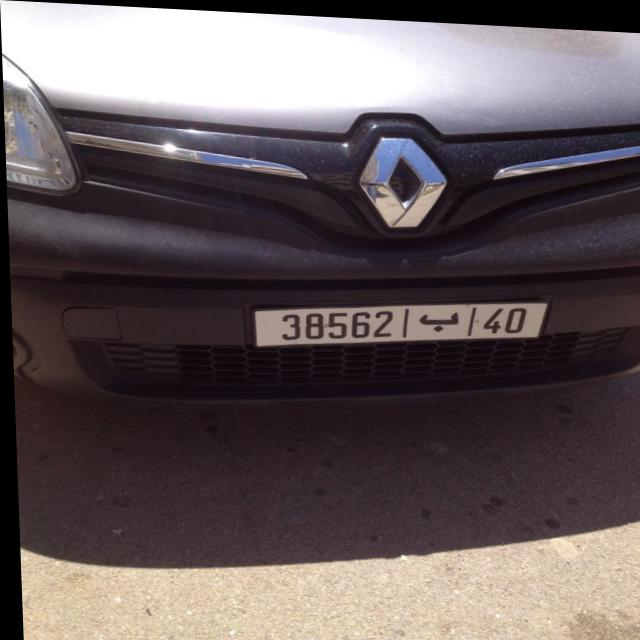License-Plate: (251, 297, 545, 345)
